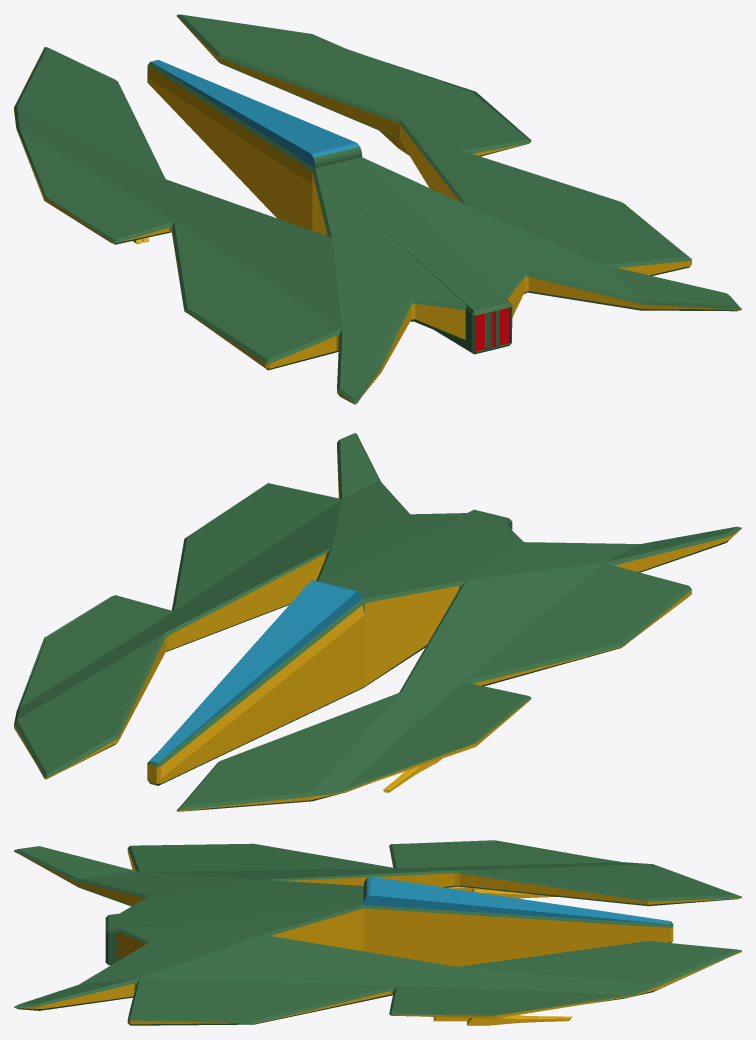
File: Spaceship_06_Merged.fbx
The picture shows the model from 3 angles, top to bottom: view 1: azimuth 30°, elevation 25°; view 2: azimuth 150°, elevation 25°; view 3: azimuth 270°, elevation 25°; orthographic projection. The views are drawn at different scales.
Visible parts, largest first — view 1: Spaceship_06_Merged; view 2: Spaceship_06_Merged; view 3: Spaceship_06_Merged.
Boxes of the visible parts, x1,y1,x2,y2 form: Spaceship_06_Merged: [14, 14, 741, 404]; Spaceship_06_Merged: [14, 433, 741, 811]; Spaceship_06_Merged: [14, 840, 741, 1025].
Size of the model in its own units: 477 by 104 by 821.
